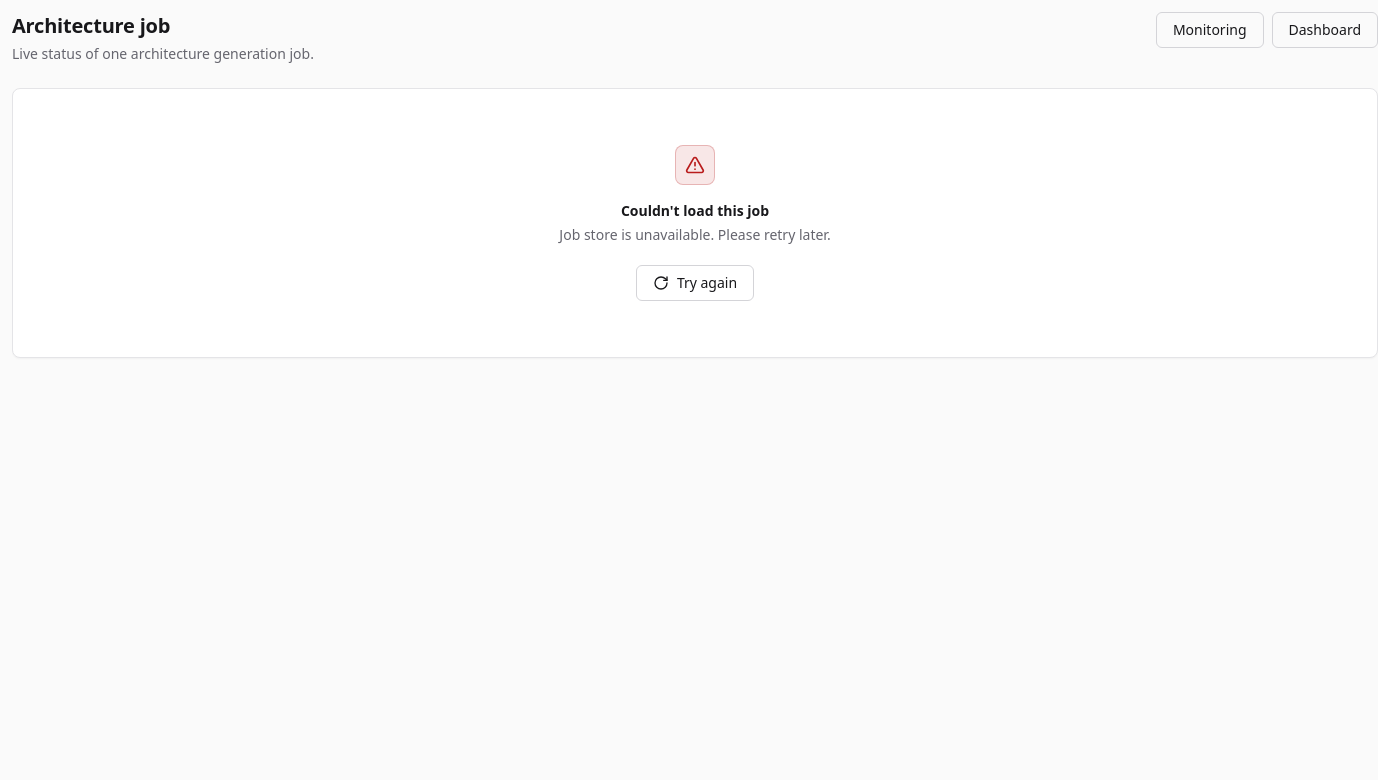
JobPage › offers Try again when the first load fails, and recovers
This screenshot has width=1378, height=780.
expect the heading "Couldn't load this job" is shown: met, box [621,201,769,221]
expect the text "Job store is unavailable. Please retry later." is shown: met, box [559,225,831,245]
Click the button "Try again". click: point(695, 283)
box: [636,265,754,301]
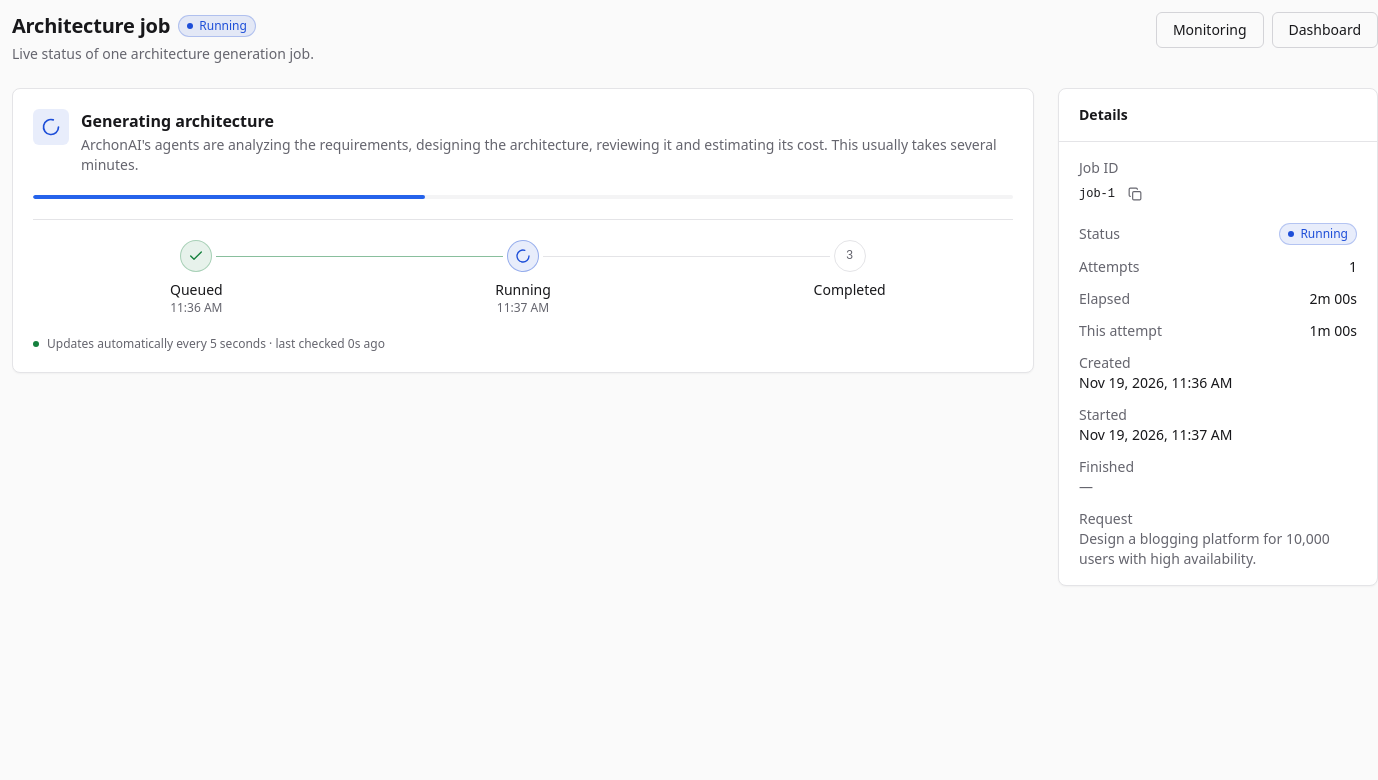
expect the heading "Generating architecture" is shown: met, box [81,110,274,132]
